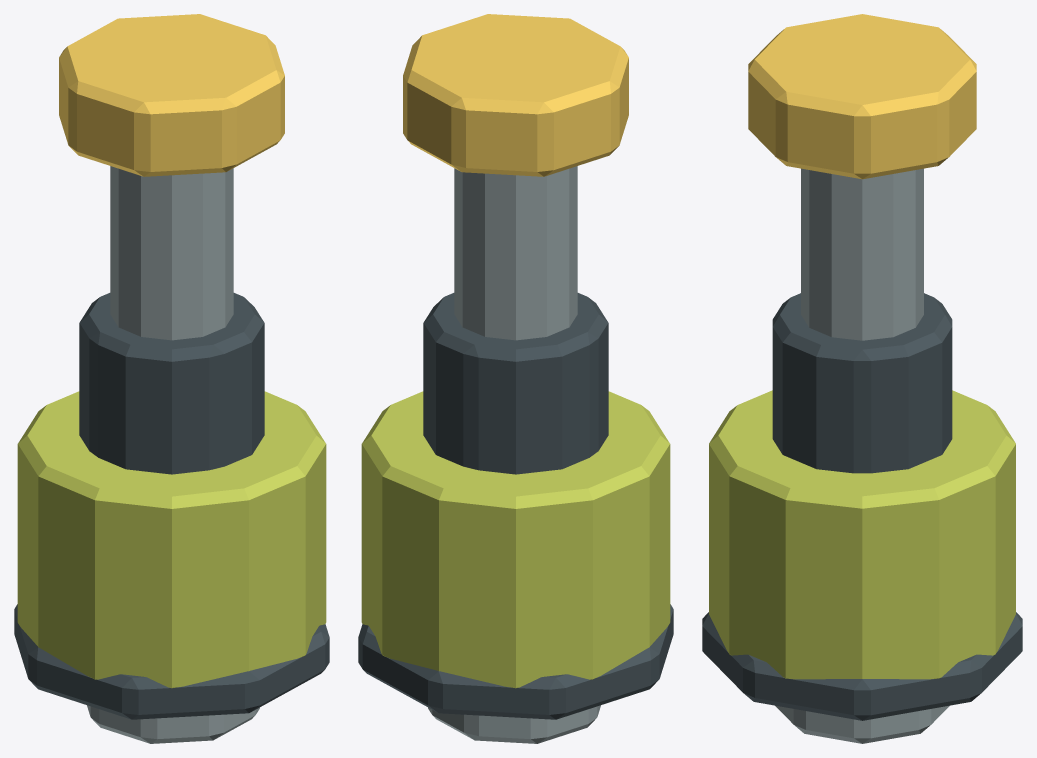
File: rod.glb
3 renders of one model, left to right at view 1: azimuth 30°, elevation 25°; view 2: azimuth 150°, elevation 25°; view 3: azimuth 270°, elevation 25°, orthographic.
Visible parts, largest first — view 1: rod_Mesh; view 2: rod_Mesh; view 3: rod_Mesh.
Boxes of the visible parts, bbox=[...] form: rod_Mesh: bbox=[14, 14, 329, 743]; rod_Mesh: bbox=[358, 14, 673, 743]; rod_Mesh: bbox=[702, 14, 1022, 743].
Size of the model in its own units: 0.3131 by 0.7 by 0.3131.
